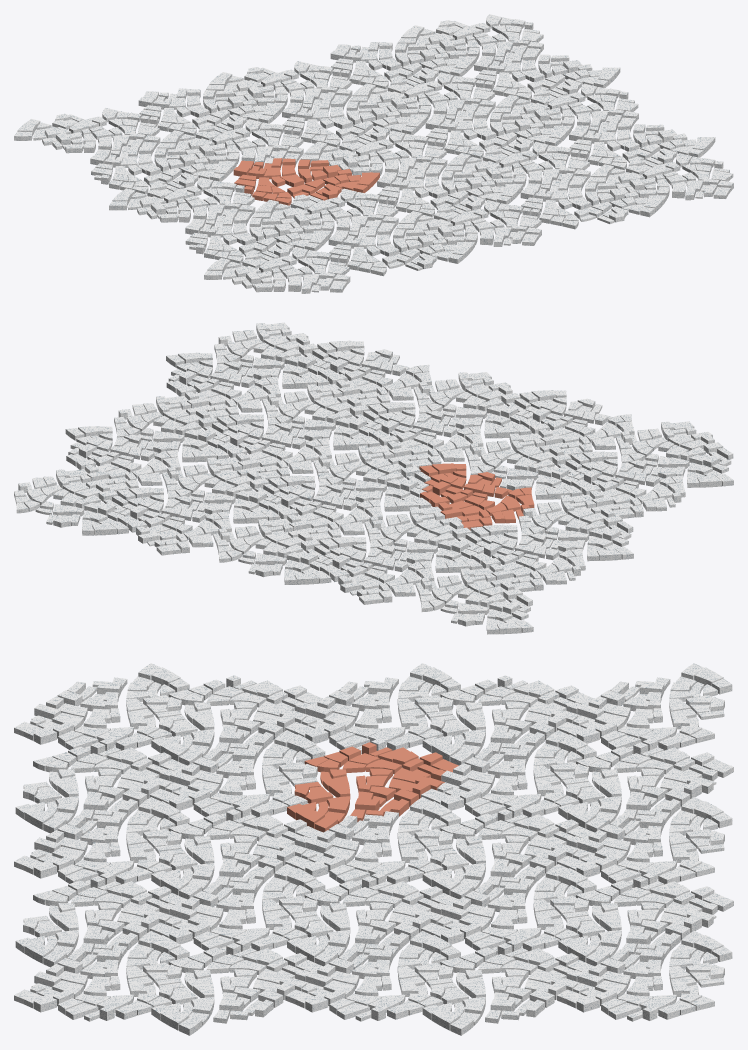
Rendered from tileable-informal-city-solid.dae.
The picture shows the model from 3 angles, top to bottom: view 1: azimuth 30°, elevation 25°; view 2: azimuth 150°, elevation 25°; view 3: azimuth 270°, elevation 25°; orthographic projection. The views are drawn at different scales.
Bounding box in the file's own units: 60322 × 50129 × 709.
